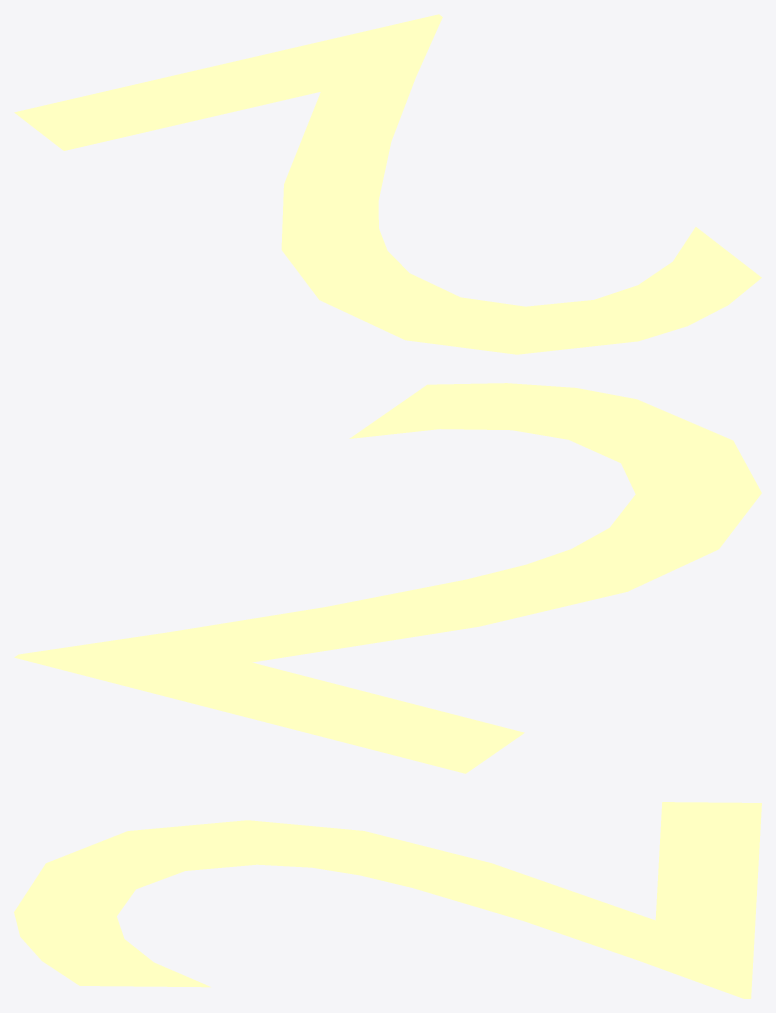
File: numb_2_yellow.glb
The picture shows the model from 3 angles, top to bottom: view 1: azimuth 30°, elevation 25°; view 2: azimuth 150°, elevation 25°; view 3: azimuth 270°, elevation 25°; orthographic projection. The views are drawn at different scales.
Parts seen in each view (by area): view 1: 2_numb_yellow; view 2: 2_numb_yellow; view 3: 2_numb_yellow.
Part boxes in pixels (box(x1,y1,x2,y2)): 2_numb_yellow: box(14, 14, 761, 354); 2_numb_yellow: box(14, 383, 761, 773); 2_numb_yellow: box(14, 802, 761, 998).
Size of the model in its own units: 1.39 by 2.18e-09 by 2.23.
